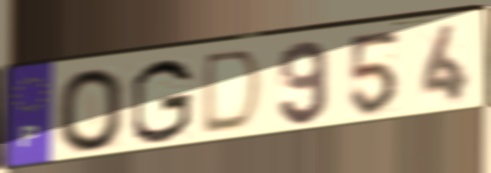4: (419, 21, 472, 107)
5: (347, 25, 403, 120)
9: (276, 38, 332, 128)
D: (198, 46, 267, 138)
G: (128, 56, 196, 147)
O: (54, 66, 127, 155)
